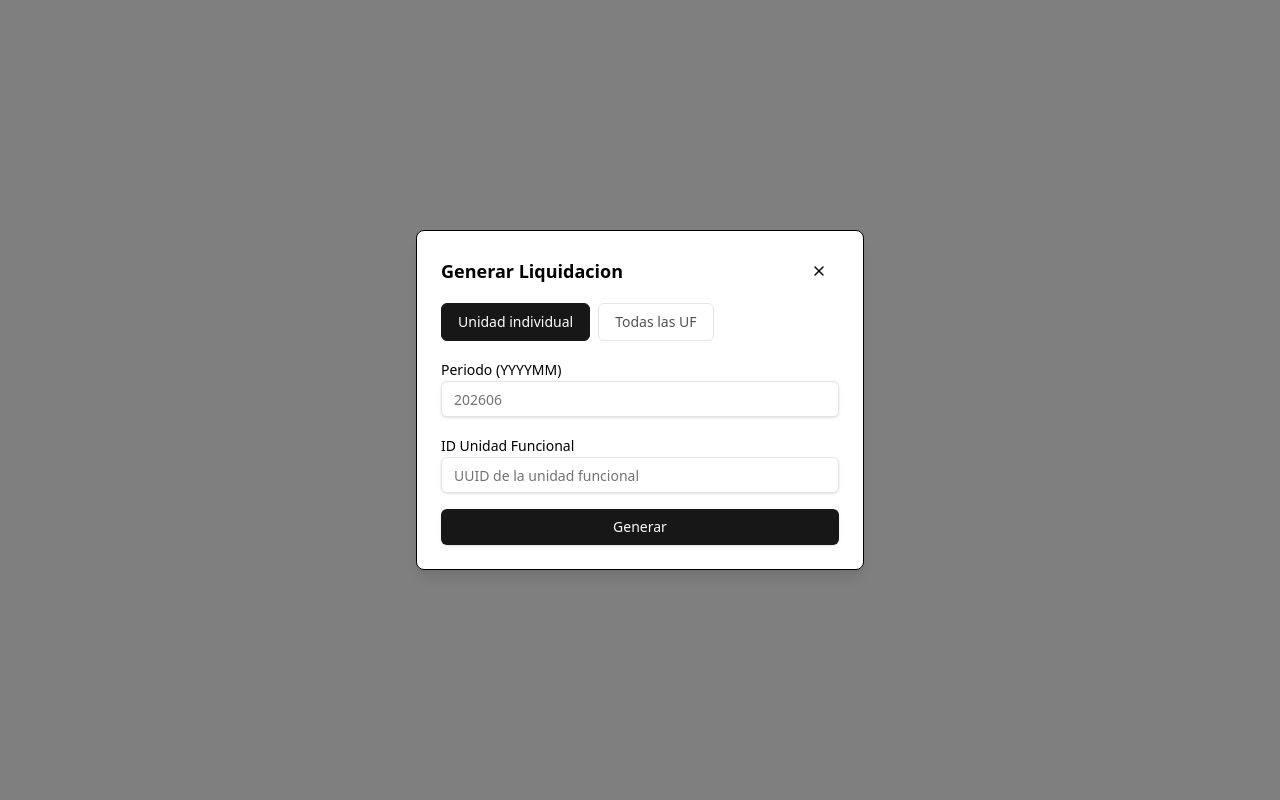
Scenario: GenerateModal › shows batch validation error when period empty
The image size is (1280, 800).
Click the button "Todas las UF".
click(656, 322)  # box [598,303,714,341]
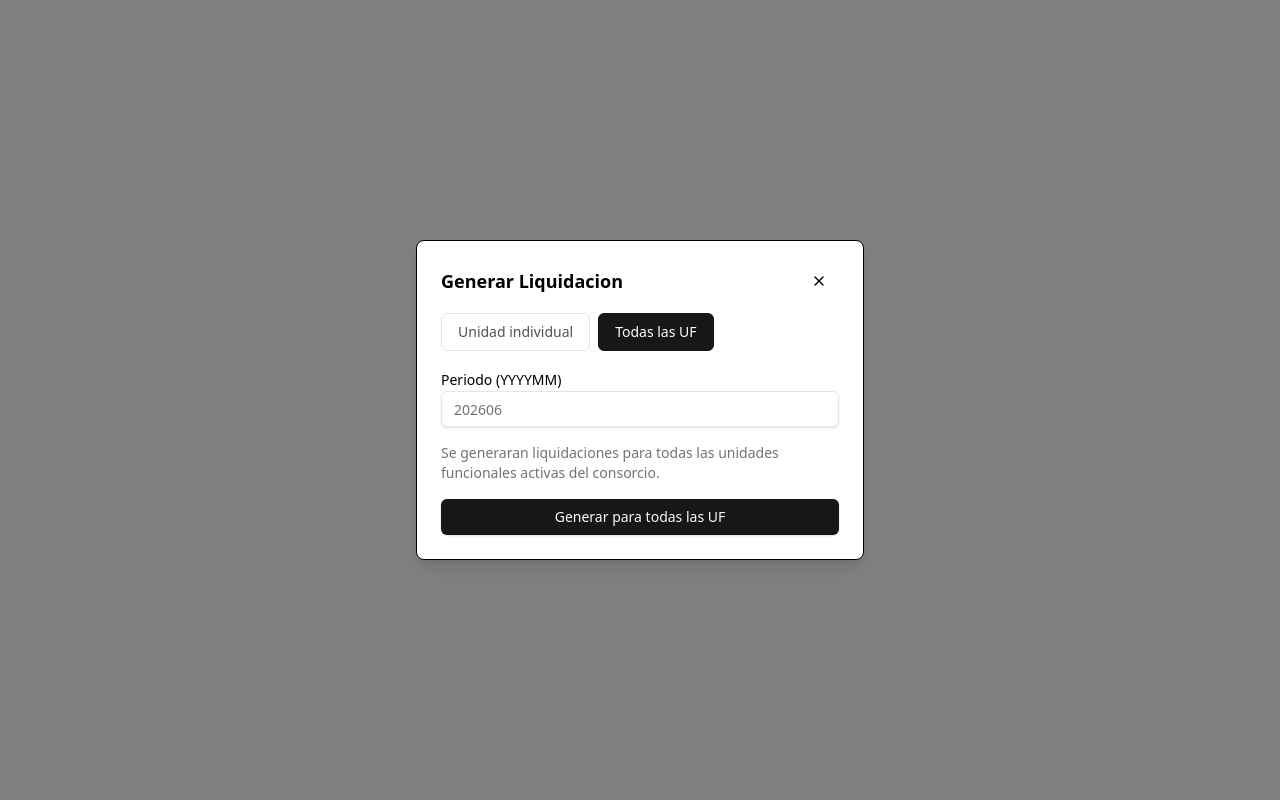
Click the button "Generar para todas las UF".
click(640, 517)  # box [441,499,839,535]
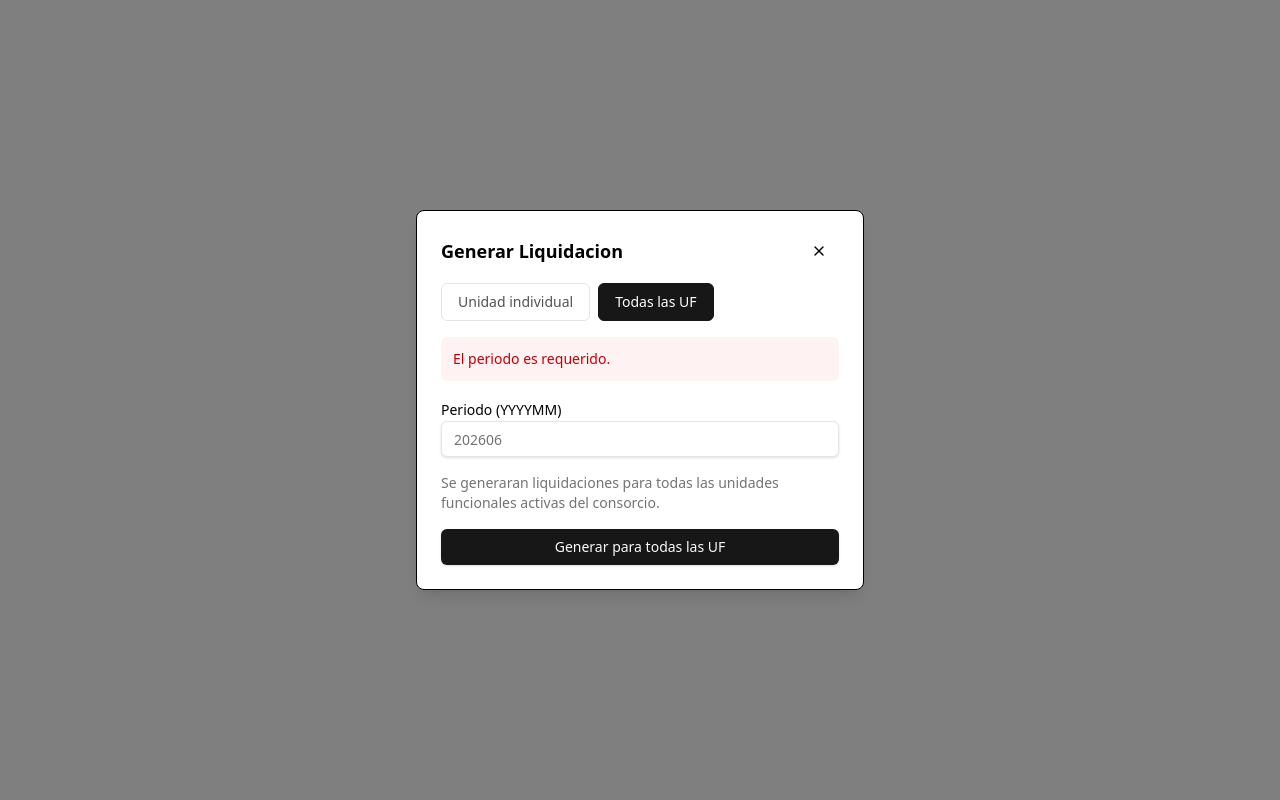
Now the text "El periodo es requerido." is shown, box [441,337,839,381]
